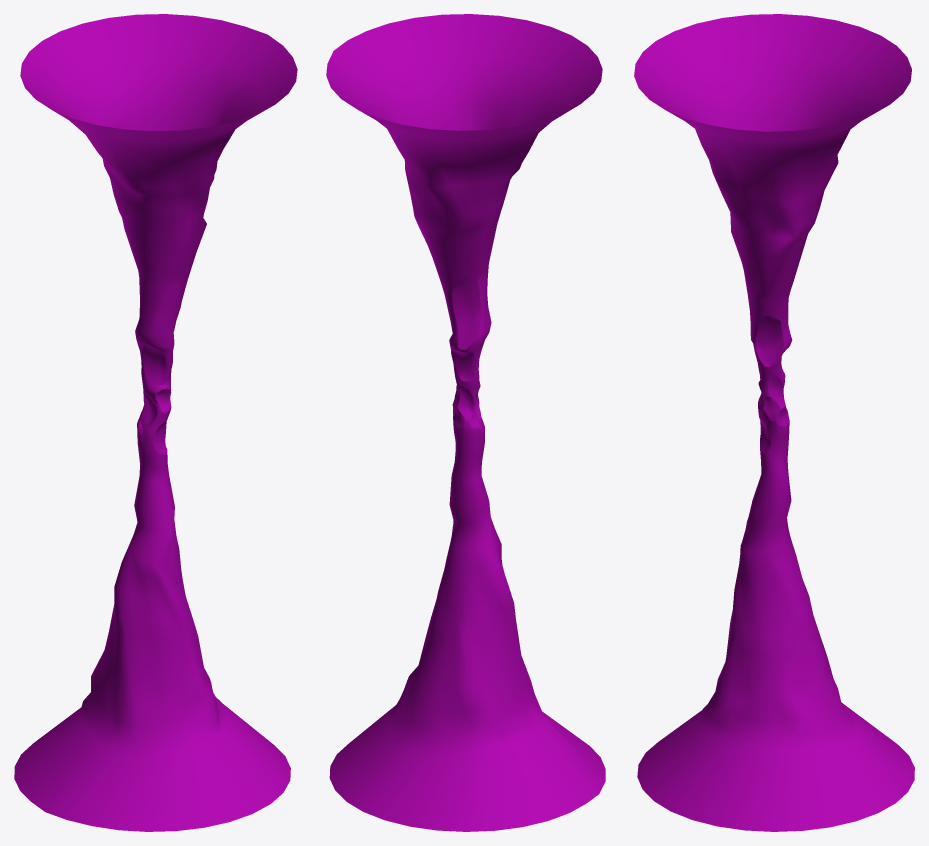
The model's file is Stalactite_Collumn.fbx.
3 renders of one model, left to right at view 1: azimuth 30°, elevation 25°; view 2: azimuth 150°, elevation 25°; view 3: azimuth 270°, elevation 25°, orthographic.
Visible parts, largest first — view 1: Stalactite_Collumn, Stalactite_Collumn_Geode; view 2: Stalactite_Collumn, Stalactite_Collumn_Geode; view 3: Stalactite_Collumn, Stalactite_Collumn_Geode.
Part boxes in pixels (<box>): Stalactite_Collumn: <box>14,14,297,831</box>; Stalactite_Collumn_Geode: <box>139,308,170,454</box>; Stalactite_Collumn: <box>326,14,605,831</box>; Stalactite_Collumn_Geode: <box>451,275,481,428</box>; Stalactite_Collumn: <box>634,14,914,831</box>; Stalactite_Collumn_Geode: <box>755,315,792,453</box>.
Size of the model in its own units: 72.1 by 197 by 71.16.
